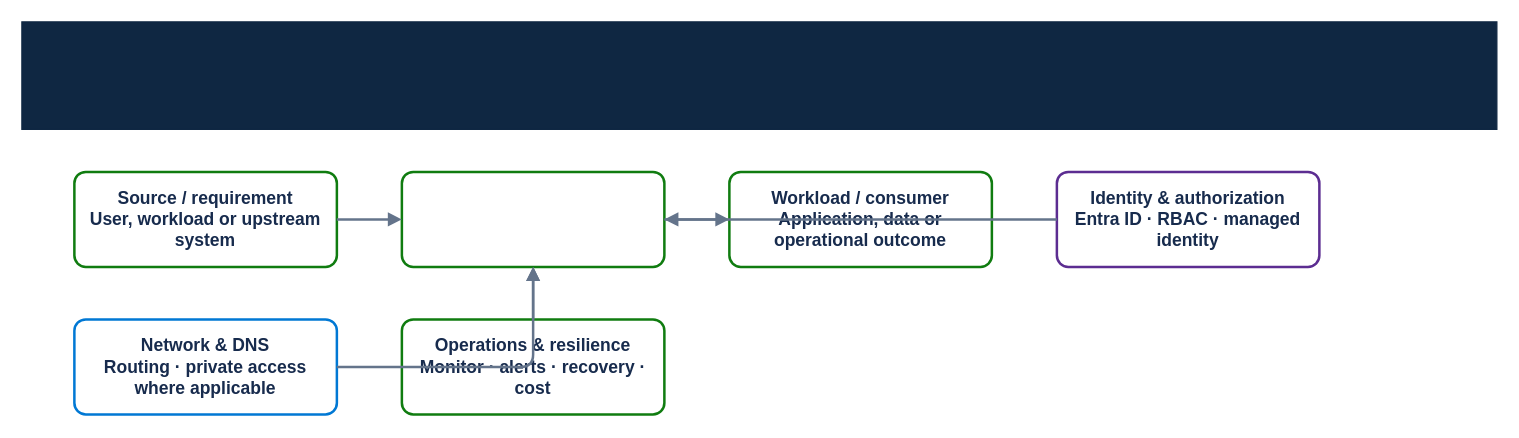
This 1519x438 diagram has some shape labels left out. The shapes that lost their labels are listed below. From the top down, each one's centre as x and y in pixels, then its label:
At (759,75): "Azure Automation".
At (532,219): "Azure Automation Azure service / architecture control".
